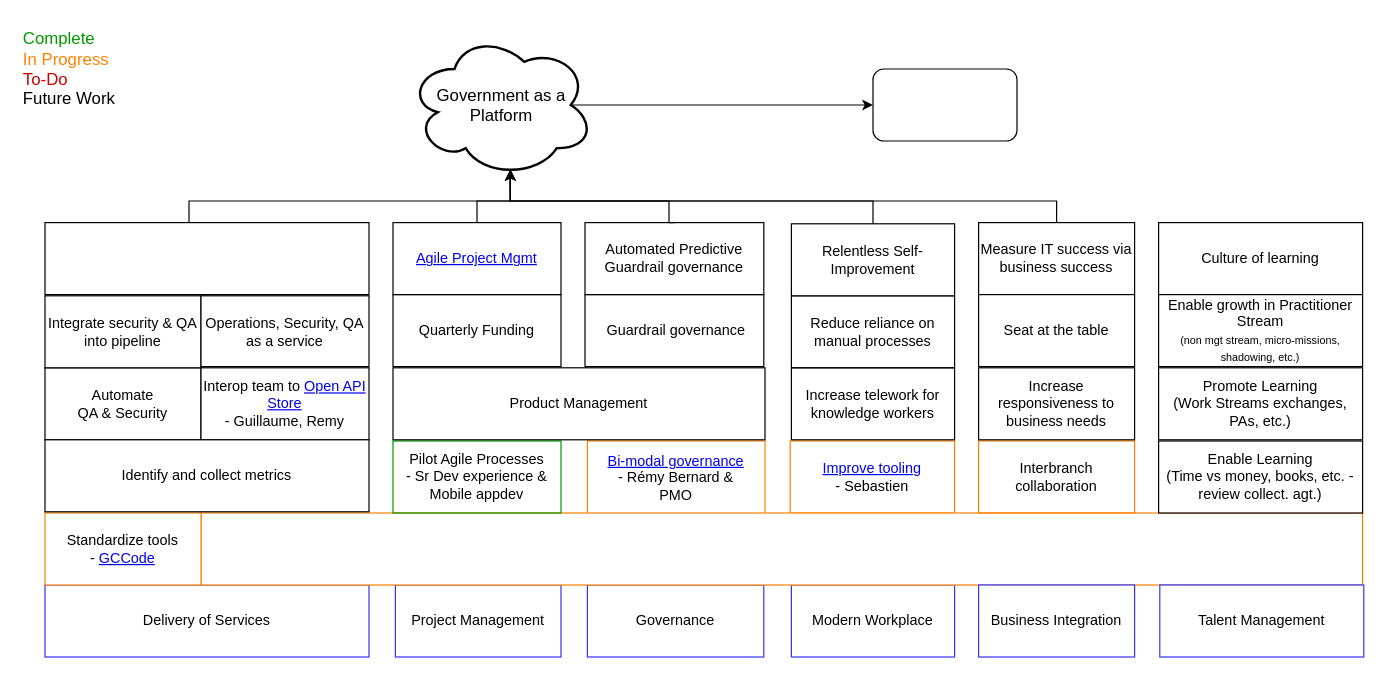
This 1385x678 diagram has some shape labels left out. Each missing label, with the centre of its shape:
Build community, work in the open GCDevOps League / Agora: the point at 781,548
HDLC: the point at 944,104
Service Culture: the point at 206,258
